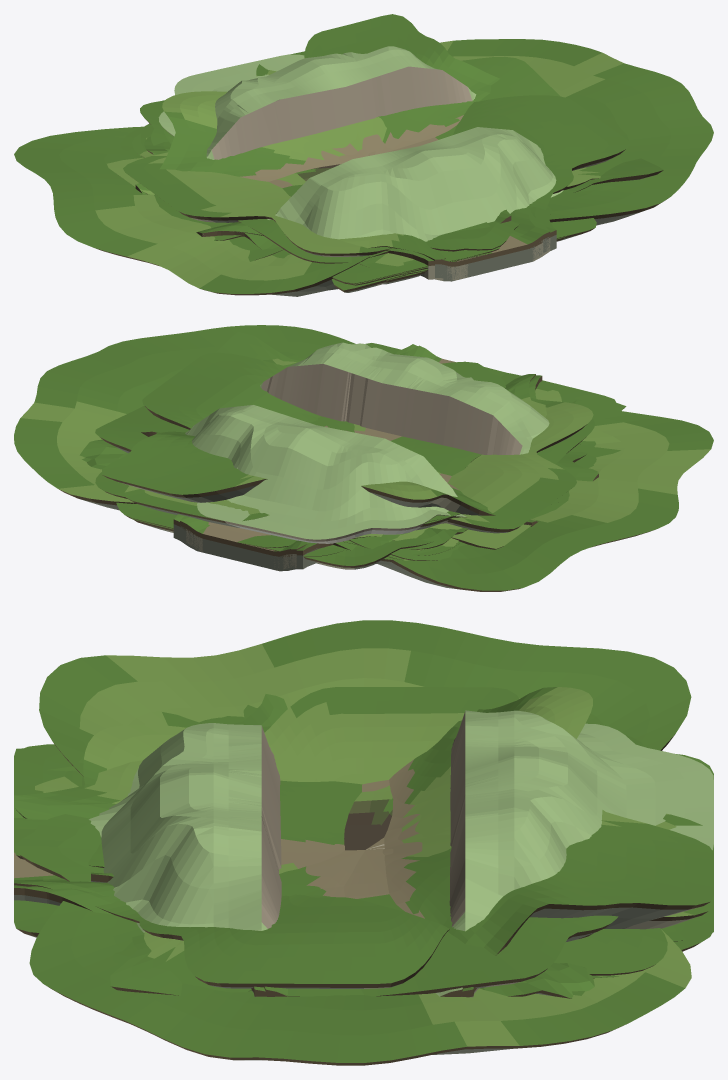
The model's file is verdant_valley_structure.fbx.
3 views of the same model, one above another, from view 1: azimuth 30°, elevation 25°; view 2: azimuth 150°, elevation 25°; view 3: azimuth 270°, elevation 25° (orthographic). The views are drawn at different scales.
Visible parts, largest first — view 1: chunk_boss_sanctuary, chunk_path_cliff_passage, chunk_windward_ridge_gate, chunk_path_narrow_pass, chunk_forgotten_orchard_gate, chunk_cliff_overlook_gate, chunk_entry_woodland_refuge, chunk_ancient_oak, chunk_high_ledge_gate, chunk_path_sunwash_fork, chunk_side_wardens_clearing, chunk_cap_cave_mouth (+2 smaller); view 2: chunk_path_cliff_passage, chunk_boss_sanctuary, chunk_path_narrow_pass, chunk_windward_ridge_gate, chunk_cliff_overlook_gate, chunk_forgotten_orchard_gate, chunk_high_ledge_gate, chunk_entry_woodland_refuge, chunk_ancient_oak, chunk_mossbound_ruins, chunk_side_treasure_hollow, chunk_cutbank_ford (+8 smaller); view 3: chunk_boss_sanctuary, chunk_path_cliff_passage, chunk_path_narrow_pass, chunk_windward_ridge_gate, chunk_cliff_overlook_gate, chunk_entry_woodland_refuge, chunk_side_treasure_hollow, chunk_high_ledge_gate, chunk_forgotten_orchard_gate, chunk_cap_cave_mouth, chunk_mossbound_ruins, chunk_path_sunwash_fork (+4 smaller).
Part boxes in pixels (bbox=[...]): chunk_boss_sanctuary: bbox=[14, 39, 713, 296]; chunk_path_cliff_passage: bbox=[158, 46, 563, 260]; chunk_windward_ridge_gate: bbox=[136, 14, 499, 292]; chunk_path_narrow_pass: bbox=[123, 95, 630, 256]; chunk_forgotten_orchard_gate: bbox=[139, 100, 663, 281]; chunk_cliff_overlook_gate: bbox=[164, 56, 560, 280]; chunk_entry_woodland_refuge: bbox=[107, 138, 622, 275]; chunk_ancient_oak: bbox=[426, 232, 550, 280]; chunk_high_ledge_gate: bbox=[167, 51, 450, 283]; chunk_path_sunwash_fork: bbox=[119, 125, 500, 261]; chunk_side_wardens_clearing: bbox=[207, 182, 615, 241]; chunk_cap_cave_mouth: bbox=[140, 164, 511, 260]; chunk_path_cliff_passage: bbox=[185, 342, 549, 543]; chunk_boss_sanctuary: bbox=[14, 325, 713, 591]; chunk_path_narrow_pass: bbox=[142, 352, 593, 549]; chunk_windward_ridge_gate: bbox=[102, 403, 626, 522]; chunk_cliff_overlook_gate: bbox=[95, 345, 535, 570]; chunk_forgotten_orchard_gate: bbox=[216, 332, 542, 569]; chunk_high_ledge_gate: bbox=[124, 386, 616, 527]; chunk_entry_woodland_refuge: bbox=[95, 358, 594, 569]; chunk_ancient_oak: bbox=[180, 374, 535, 569]; chunk_mossbound_ruins: bbox=[167, 372, 598, 560]; chunk_side_treasure_hollow: bbox=[354, 424, 481, 475]; chunk_cutbank_ford: bbox=[79, 375, 535, 549]; chunk_boss_sanctuary: bbox=[14, 620, 691, 1065]; chunk_path_cliff_passage: bbox=[89, 710, 713, 996]; chunk_path_narrow_pass: bbox=[83, 687, 593, 988]; chunk_windward_ridge_gate: bbox=[14, 687, 713, 996]; chunk_cliff_overlook_gate: bbox=[14, 837, 618, 996]; chunk_entry_woodland_refuge: bbox=[47, 698, 667, 992]; chunk_side_treasure_hollow: bbox=[279, 780, 362, 873]; chunk_high_ledge_gate: bbox=[14, 722, 713, 991]; chunk_forgotten_orchard_gate: bbox=[14, 754, 713, 995]; chunk_cap_cave_mouth: bbox=[14, 791, 393, 996]; chunk_mossbound_ruins: bbox=[14, 694, 389, 895]; chunk_path_sunwash_fork: bbox=[14, 731, 644, 996].
Bounding box in the file's own units: 384 × 88.23 × 256.
